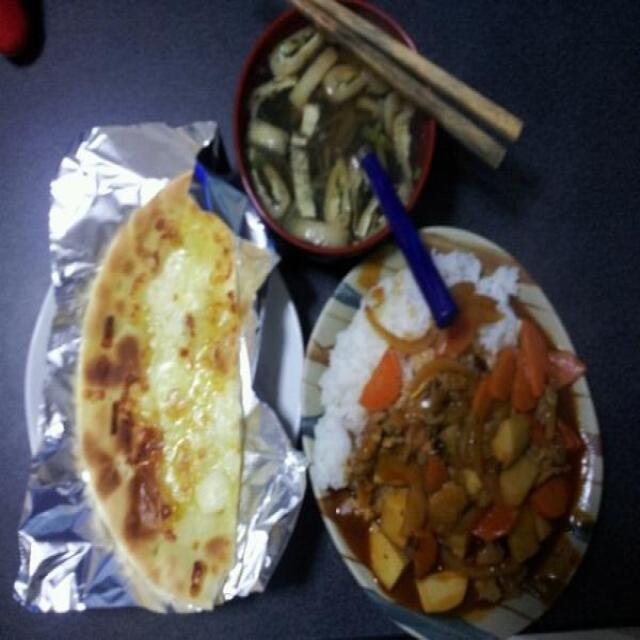Beef Curry: (357, 354, 588, 604)
